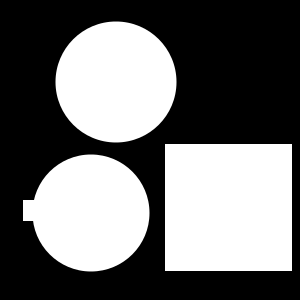circle: (165, 144, 292, 271), (23, 200, 44, 221), (272, 228, 288, 244)
rectangle: (56, 21, 176, 142), (32, 154, 150, 272)
